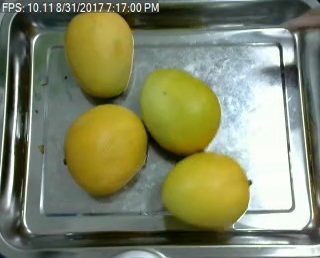Mango: (65, 104, 148, 192), (140, 65, 220, 151), (162, 153, 248, 227), (67, 9, 134, 97)
